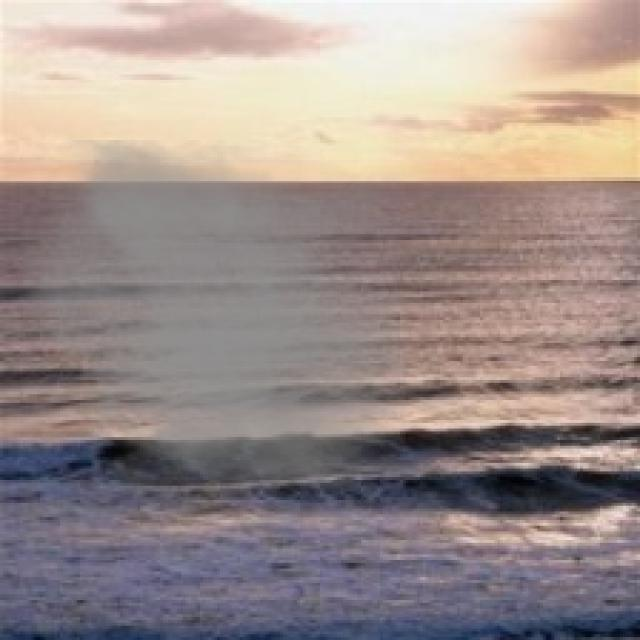smoke: (3, 140, 406, 497)
